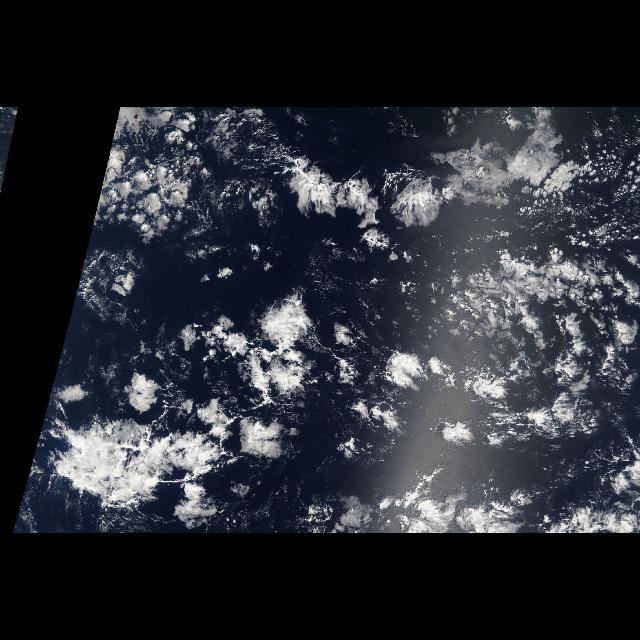Flower: (12, 111, 634, 528), (9, 111, 17, 152)
